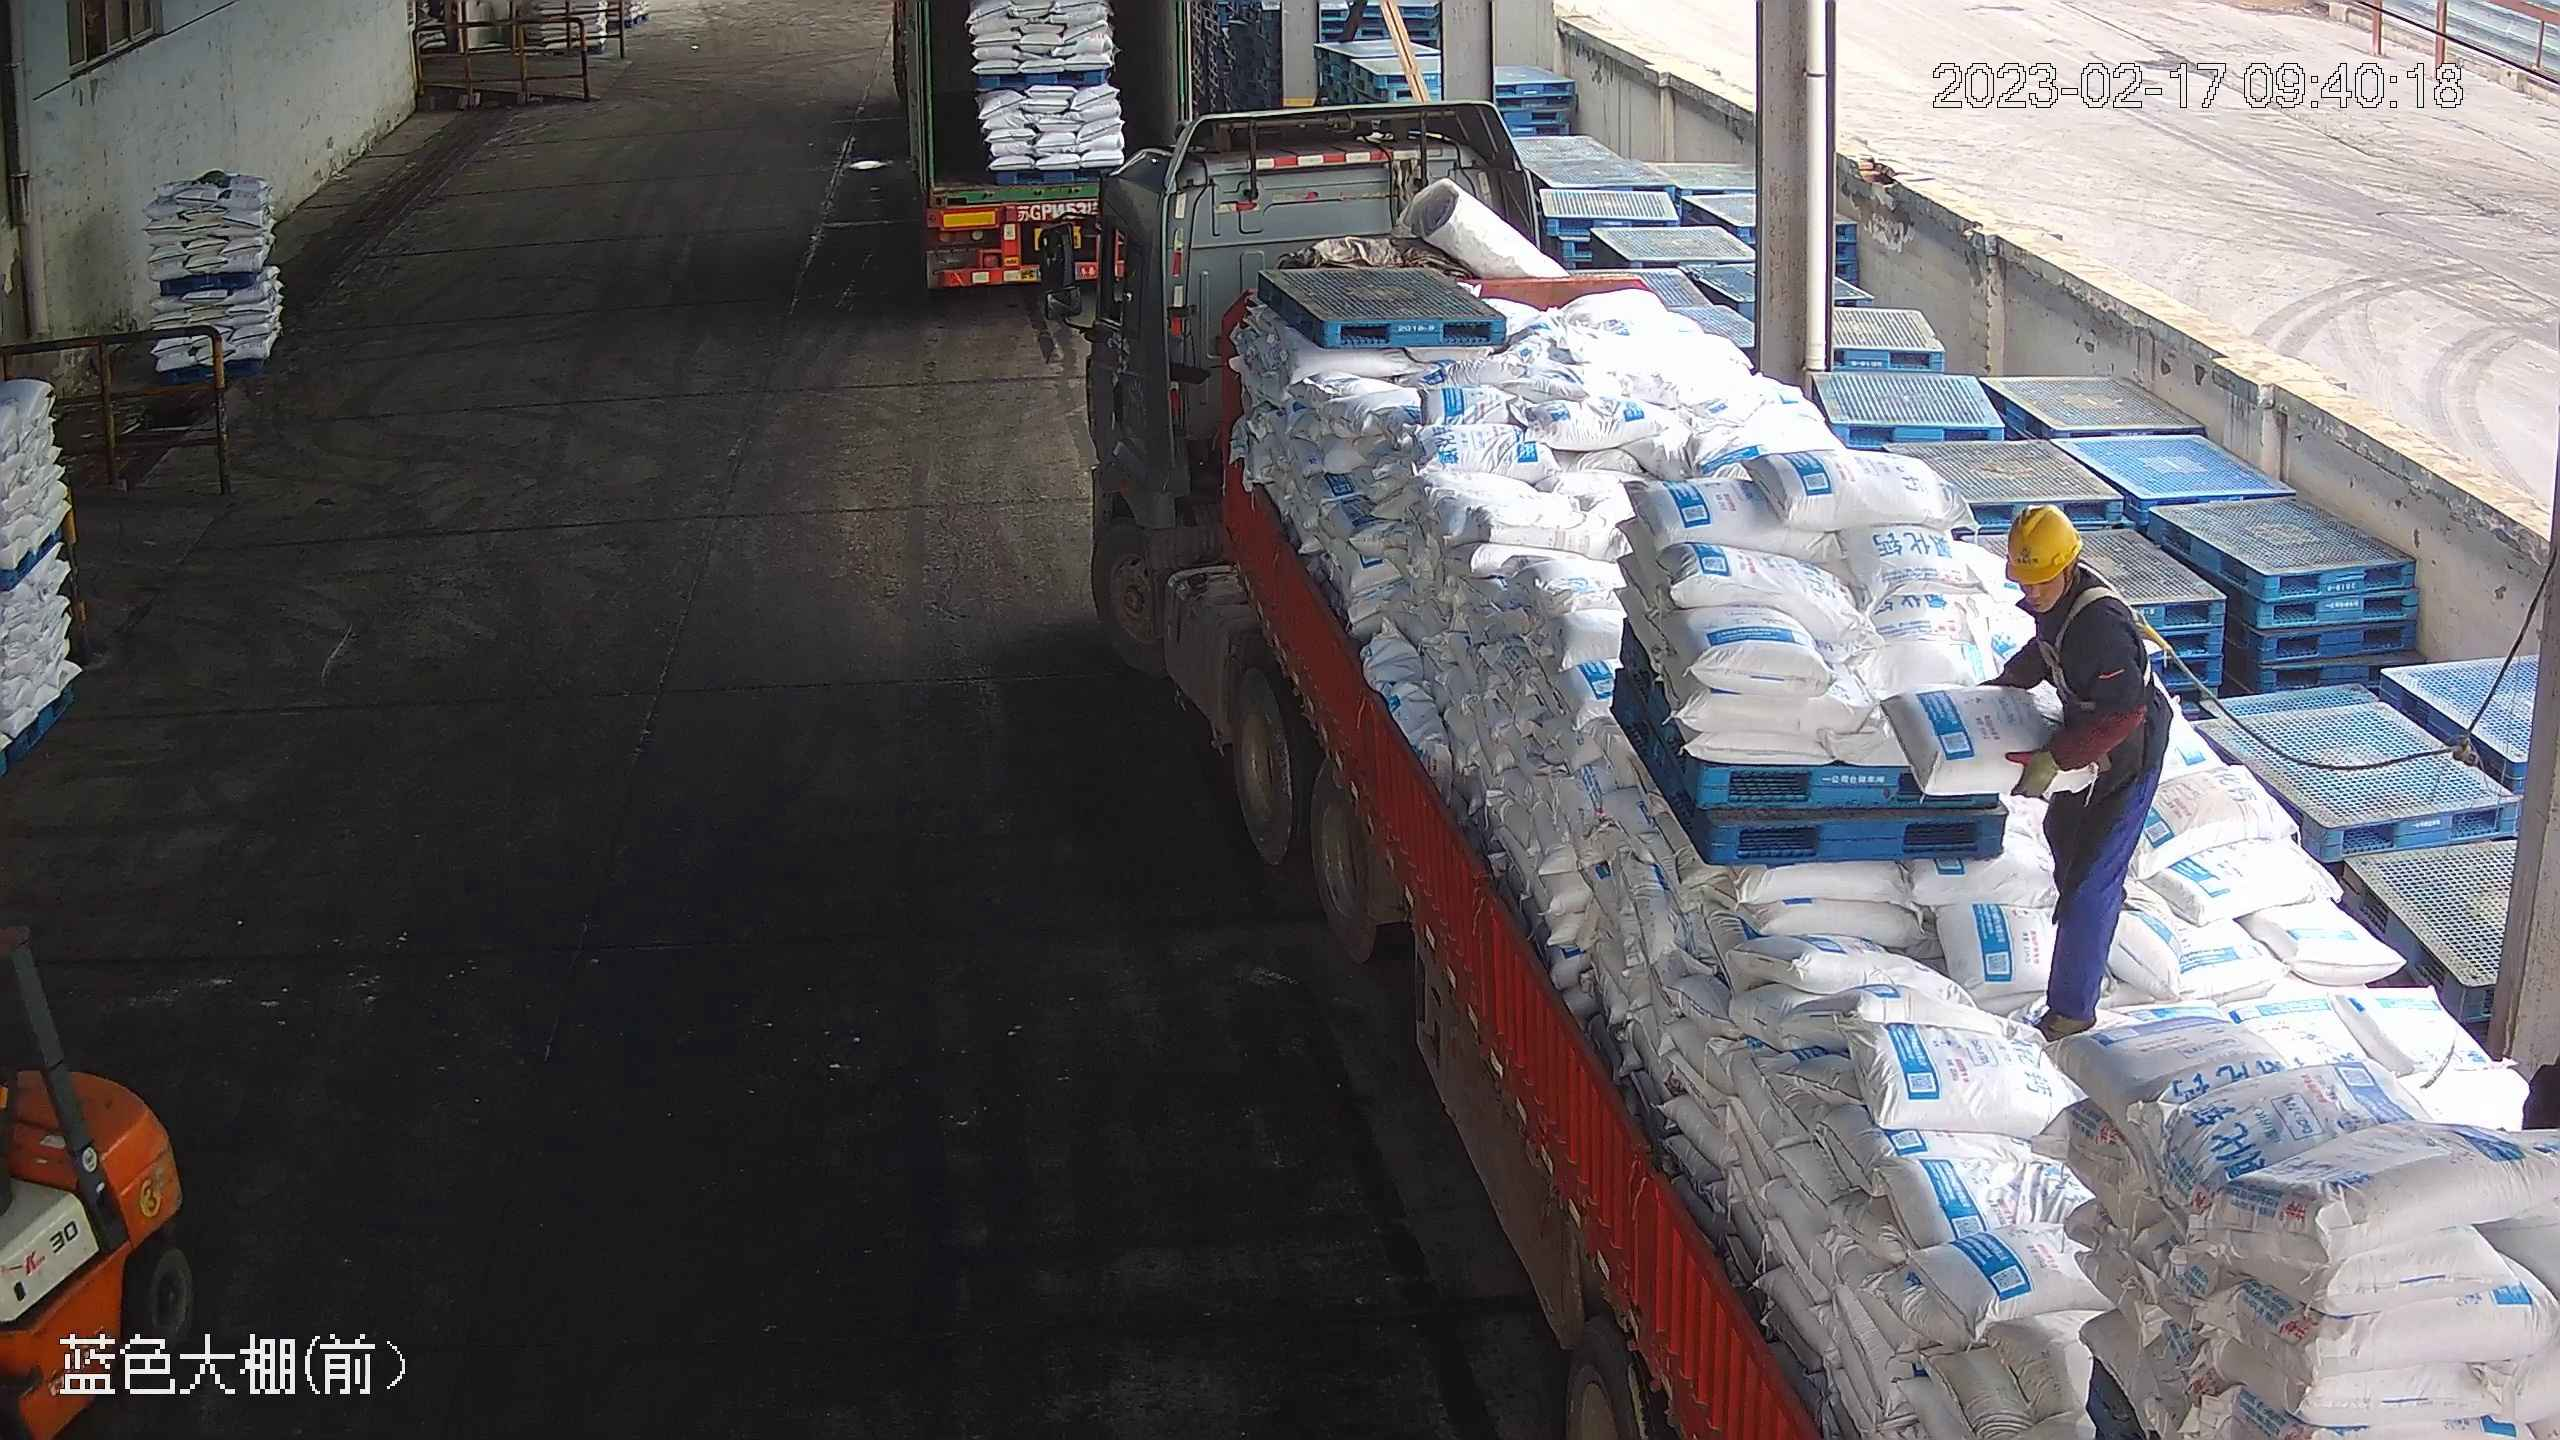belt: (2047, 584, 2172, 691)
head: (1996, 501, 2139, 654)
helmet: (1998, 499, 2087, 585)
people: (1987, 502, 2170, 1043)
truck: (1036, 99, 2559, 1440), (890, 2, 1185, 292)
